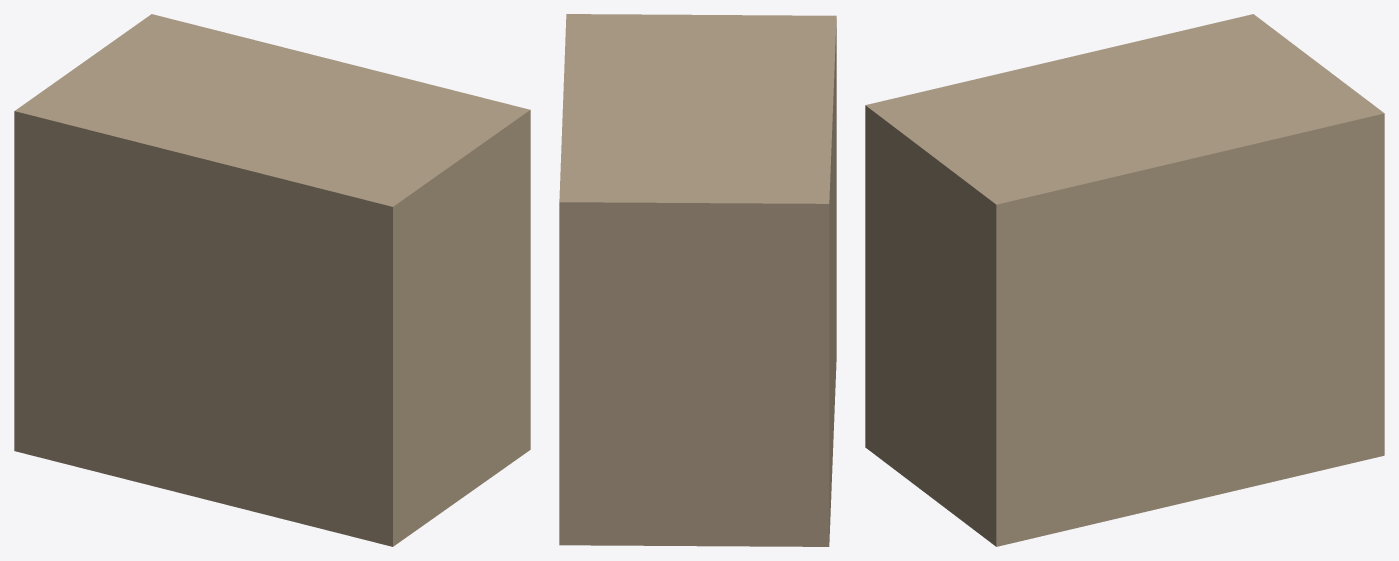
The model's file is bld_100469381.dae.
3 views of the same model, side by side, from view 1: azimuth 30°, elevation 25°; view 2: azimuth 150°, elevation 25°; view 3: azimuth 270°, elevation 25° (orthographic).
Visible parts, largest first — view 1: bld_100469381; view 2: bld_100469381; view 3: bld_100469381.
Boxes of the visible parts, x1,y1,x2,y2 form: bld_100469381: (14, 14, 530, 546); bld_100469381: (559, 14, 836, 546); bld_100469381: (865, 14, 1384, 546).
Size of the model in its own units: 9.56 by 11 by 8.
